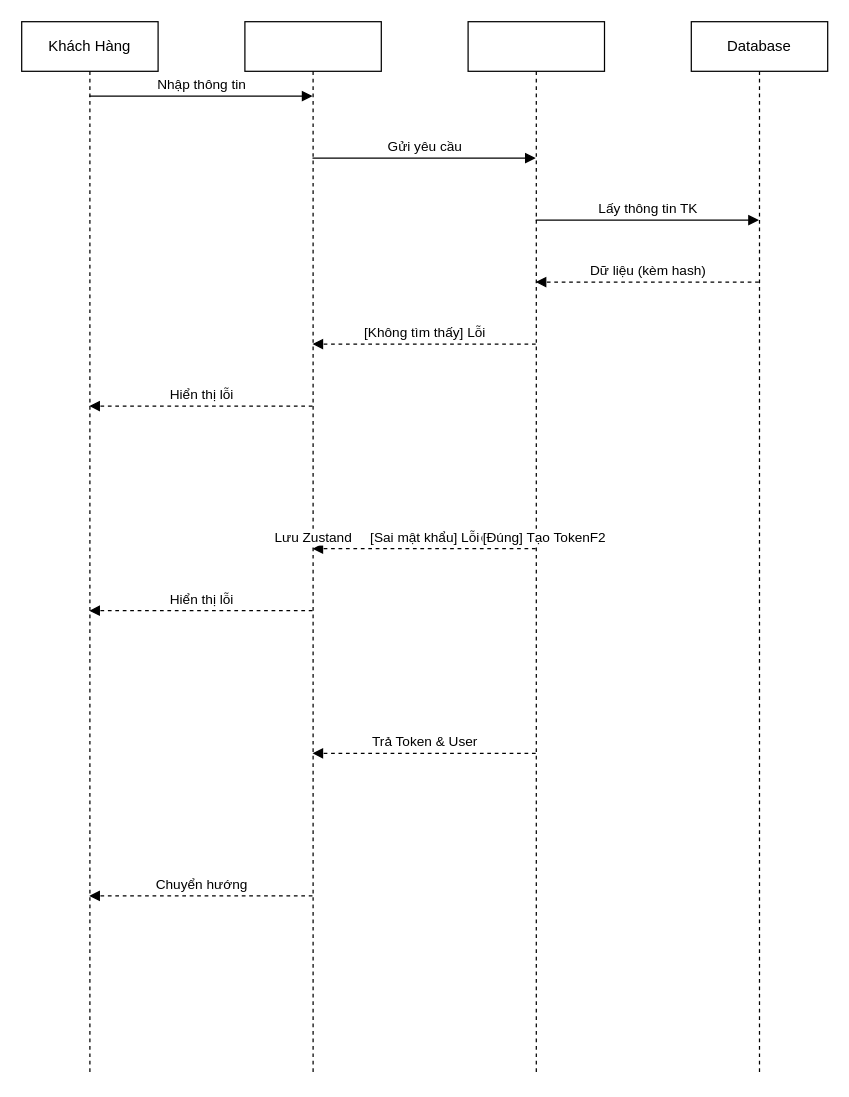
This 849x1097 diagram has some shape labels left out. The centre of each missing label's shape, as x and y in pixels:
"Backend" goes at pixel 535 548.
"Frontend" goes at pixel 312 548.
